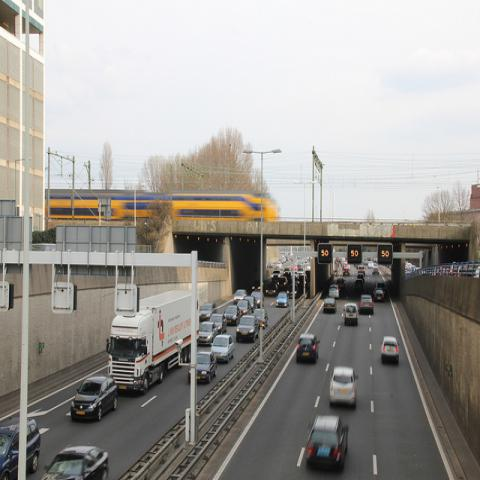car: (1, 252, 386, 478), (70, 373, 121, 422), (306, 415, 348, 474), (42, 447, 111, 474), (330, 366, 360, 408), (188, 348, 218, 384), (295, 333, 320, 364), (379, 336, 400, 372), (236, 314, 260, 344), (211, 333, 235, 363), (345, 304, 358, 326), (360, 294, 374, 314), (323, 298, 337, 313), (329, 284, 339, 299)
truck: (106, 289, 200, 395)
